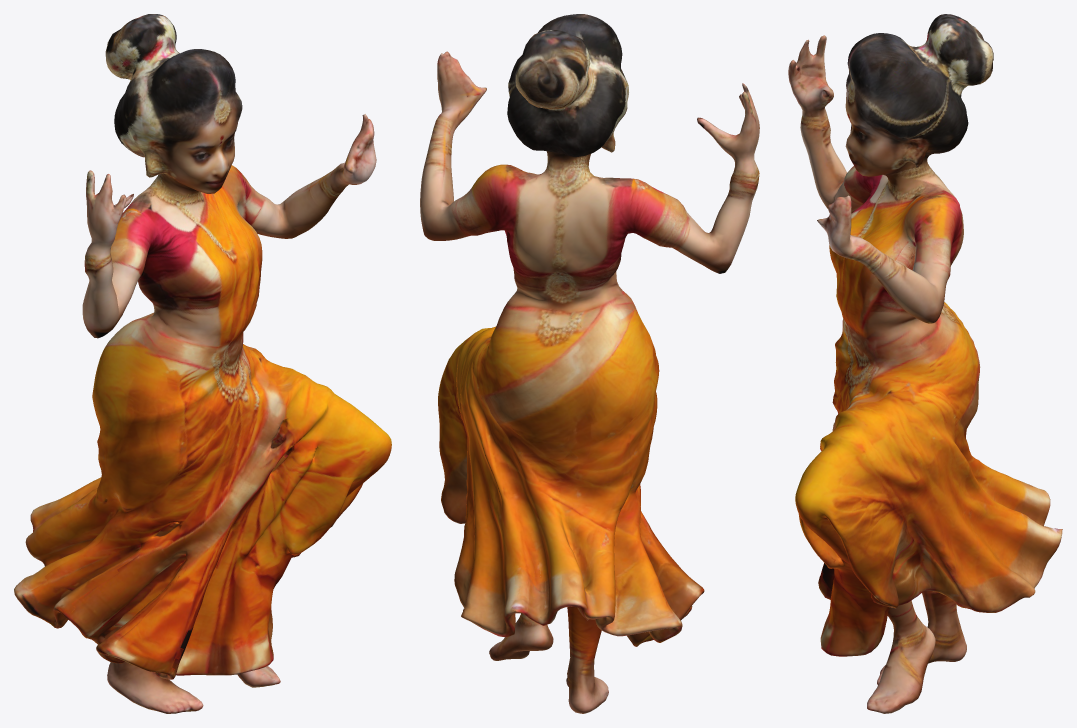
The picture shows the model from 3 angles, left to right: view 1: azimuth 30°, elevation 25°; view 2: azimuth 150°, elevation 25°; view 3: azimuth 270°, elevation 25°; orthographic projection. The views are drawn at different scales.
Bounding box in the file's own units: 0.9433 × 2 × 0.752.
1 material, 1 textured.
